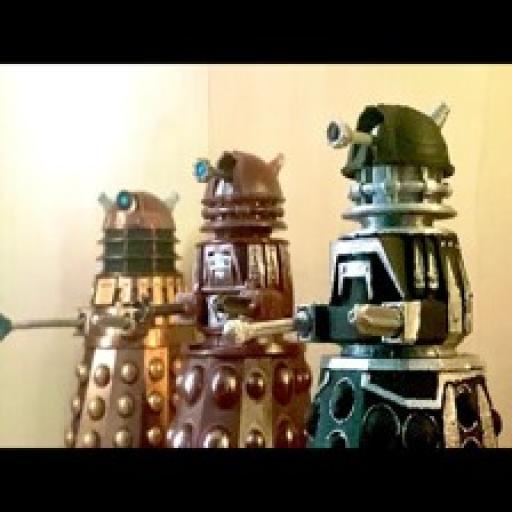dalek: (219, 97, 504, 449), (128, 146, 312, 452), (1, 183, 198, 449)
